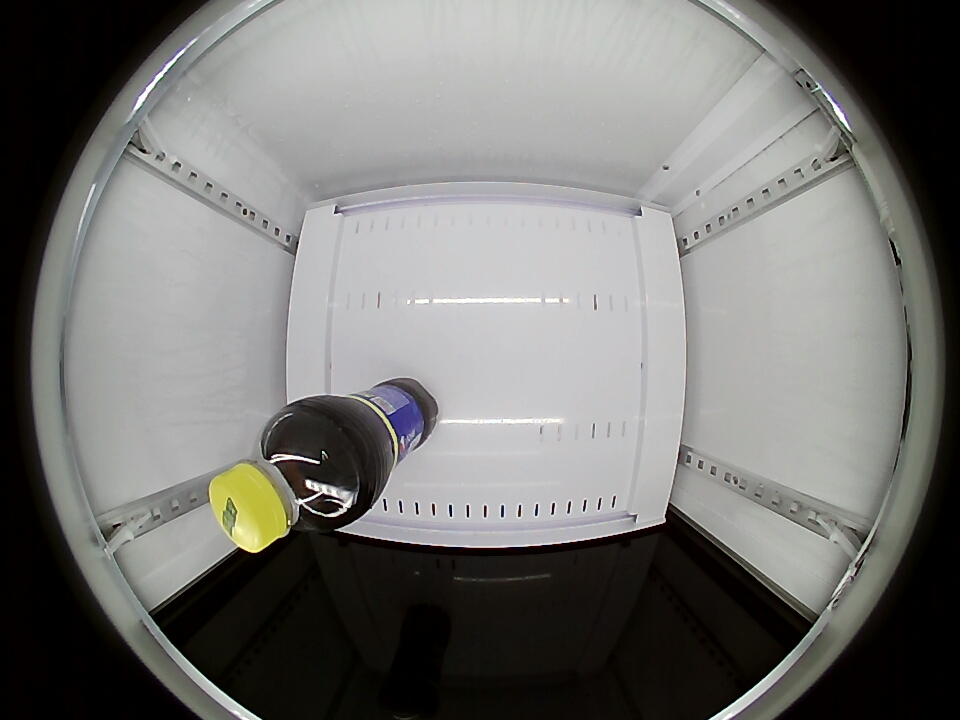baishikele: (210, 411, 362, 552)
